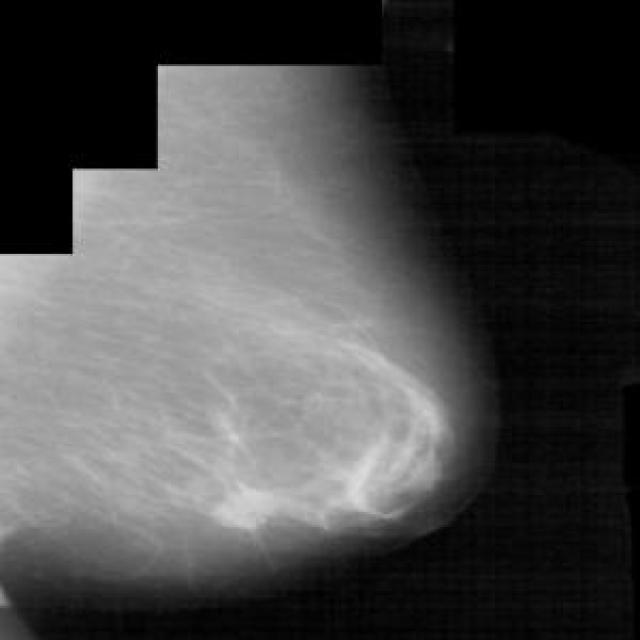tumor: (205, 364, 454, 536)
